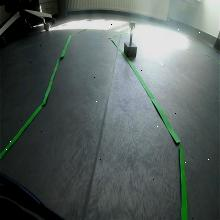green: (129, 21, 136, 29)
